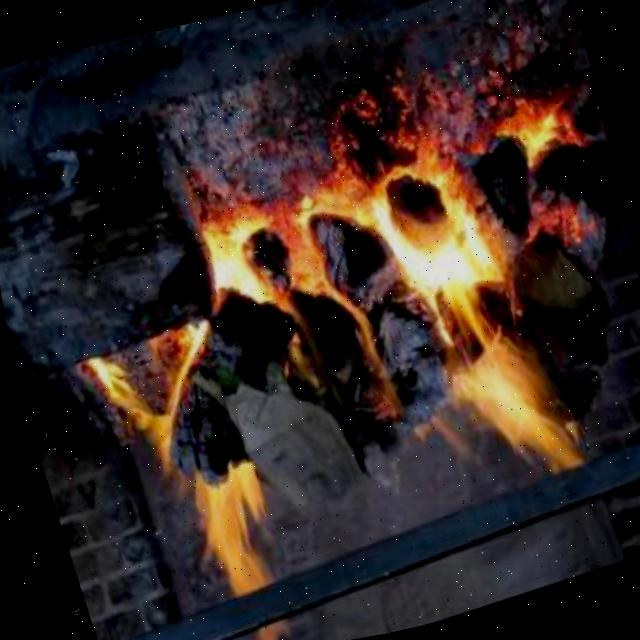fire: (200, 75, 640, 511), (171, 448, 284, 595)
